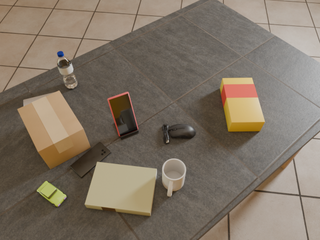book: (85, 162, 157, 216)
bottle: (57, 51, 78, 89)
box: (18, 91, 90, 169), (220, 78, 265, 131)
cup: (162, 159, 186, 196)
mouse: (162, 124, 196, 144)
phone: (70, 142, 111, 178), (108, 92, 138, 136), (23, 92, 55, 106)
toy_car: (37, 181, 67, 207)
